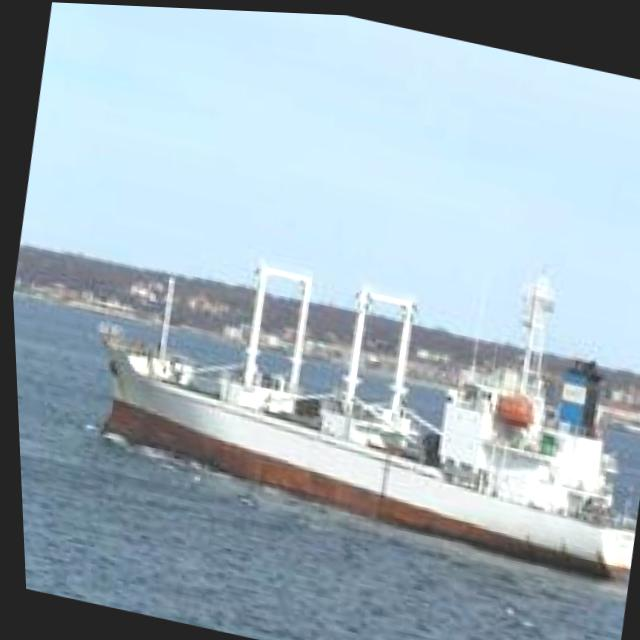ship2: (96, 260, 632, 581)
